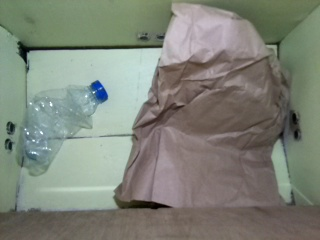damaged-bottle: (20, 80, 109, 170)
paper: (115, 1, 291, 212)
